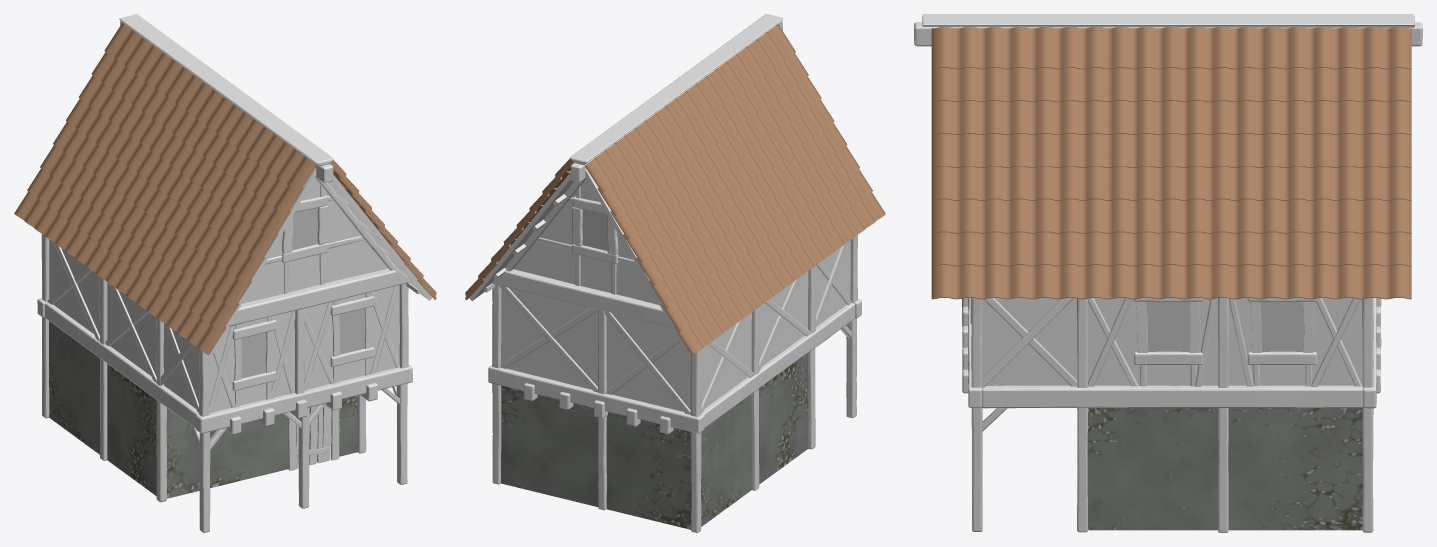
Rendered from Casa_Door.fbx.
The picture shows the model from 3 angles, left to right: view 1: azimuth 30°, elevation 25°; view 2: azimuth 150°, elevation 25°; view 3: azimuth 270°, elevation 25°; orthographic projection. The views are drawn at different scales.
Visible parts, largest first — view 1: Roof, Wooden Carcass, Walls, Cobblestone Foundation, WindowFrames, GlassPanes, Door; view 2: Roof, Wooden Carcass, Cobblestone Foundation, Walls, WindowFrames, GlassPanes; view 3: Roof, Wooden Carcass, Cobblestone Foundation, Walls, WindowFrames, GlassPanes.
Part boxes in pixels (<box>): Roof: <box>14,23,436,355</box>; Wooden Carcass: <box>37,14,421,532</box>; Walls: <box>49,167,432,412</box>; Cobblestone Foundation: <box>49,321,357,498</box>; WindowFrames: <box>232,195,374,390</box>; GlassPanes: <box>241,208,365,378</box>; Door: <box>288,405,339,470</box>; Roof: <box>465,24,885,355</box>; Wooden Carcass: <box>483,14,861,532</box>; Cobblestone Foundation: <box>501,353,808,529</box>; Walls: <box>469,169,850,411</box>; WindowFrames: <box>572,196,618,264</box>; GlassPanes: <box>582,209,607,251</box>; Roof: <box>931,27,1411,299</box>; Wooden Carcass: <box>914,14,1422,532</box>; Cobblestone Foundation: <box>1087,407,1362,530</box>; Walls: <box>982,298,1362,385</box>; WindowFrames: <box>1134,298,1317,364</box>; GlassPanes: <box>1146,301,1303,351</box>.
Size of the model in its own units: 482 by 709 by 722.
